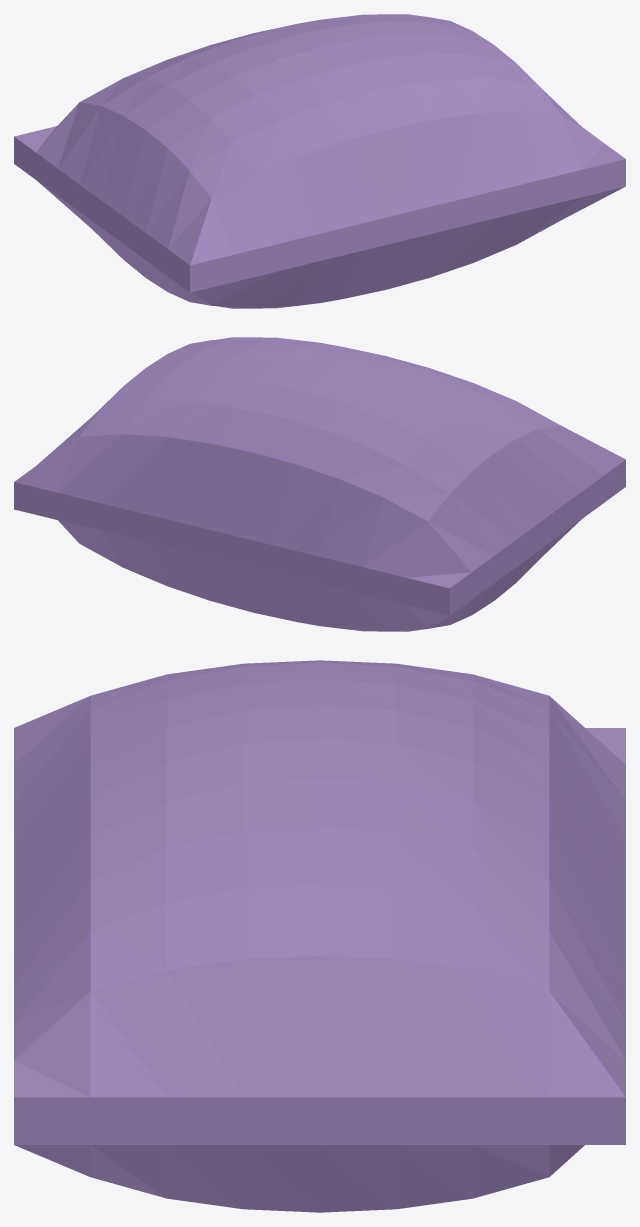
The model's file is cuscino.glb.
3 renders of one model, top to bottom at view 1: azimuth 30°, elevation 25°; view 2: azimuth 150°, elevation 25°; view 3: azimuth 270°, elevation 25°, orthographic. The views are drawn at different scales.
Size of the model in its own units: 1 by 0.5 by 0.7.
